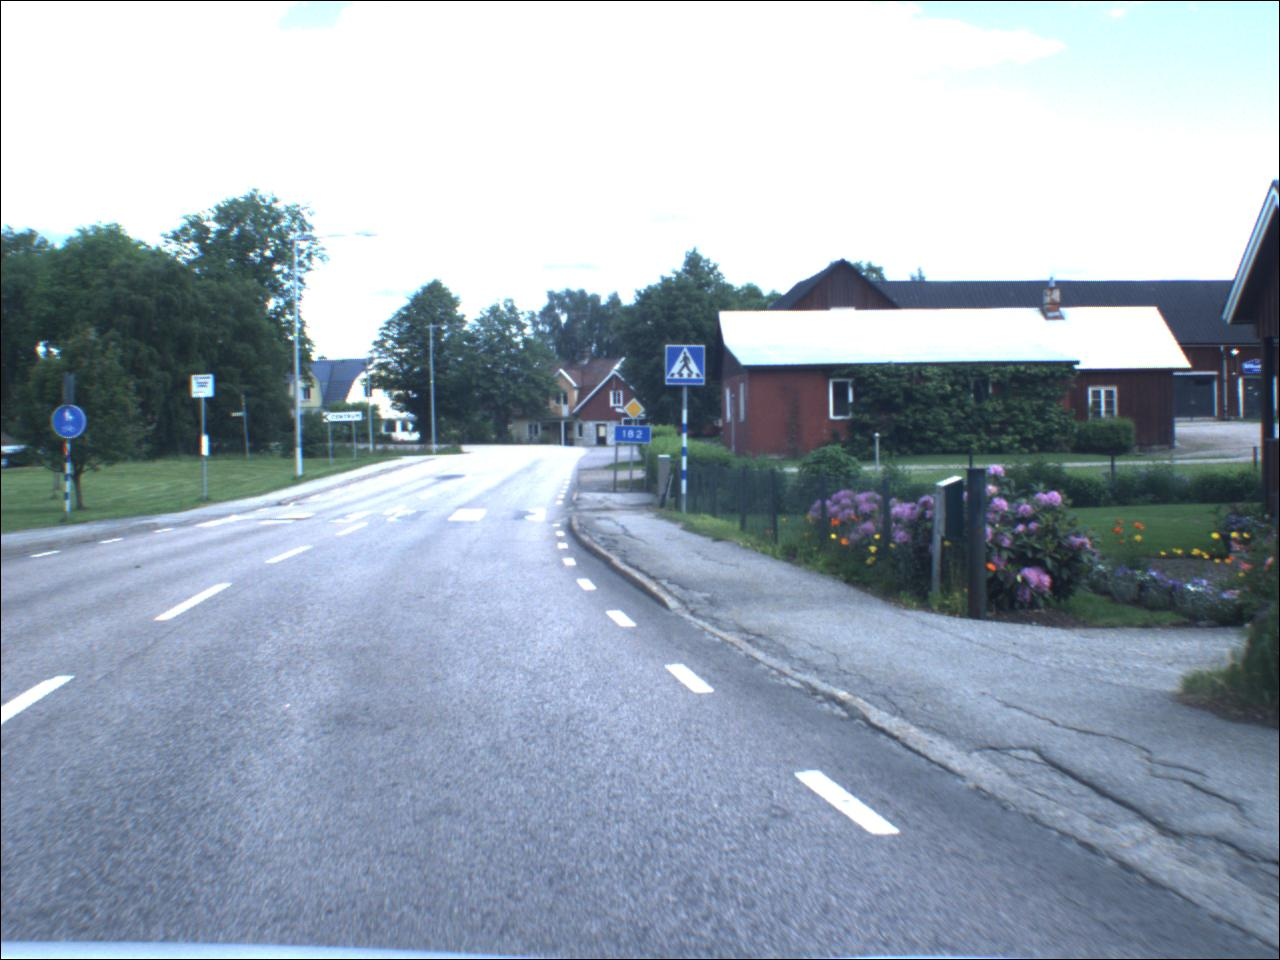PEDESTRIAN_CROSSING: (667, 346, 710, 389)
PRIORITY_ROAD: (625, 398, 648, 422)
